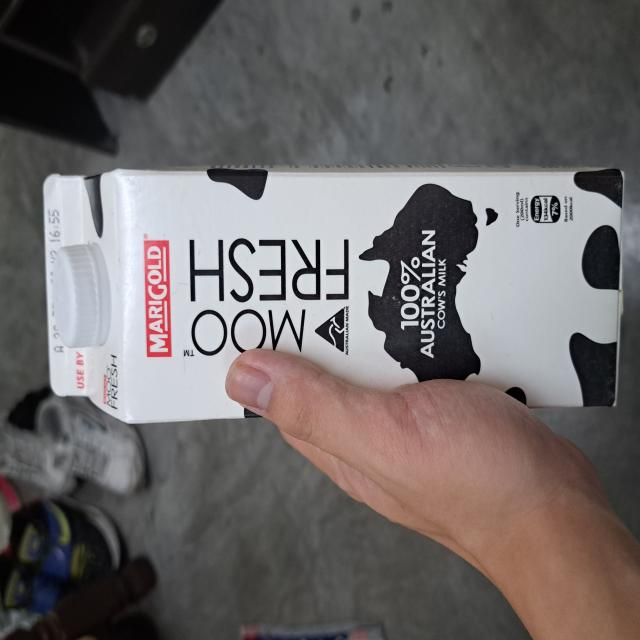drink carton: (39, 165, 624, 427)
plastic bottle cap: (52, 240, 109, 348)
